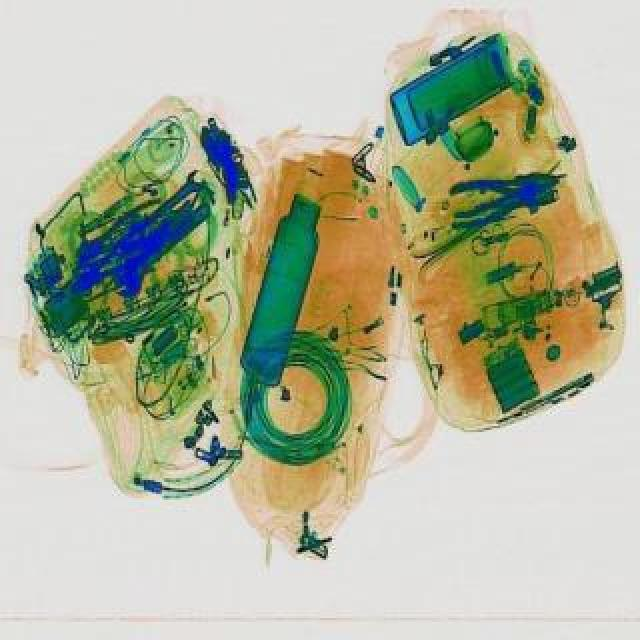scissors: (106, 202, 222, 308), (142, 170, 216, 236)
wrench: (64, 218, 178, 310), (448, 168, 564, 226)
